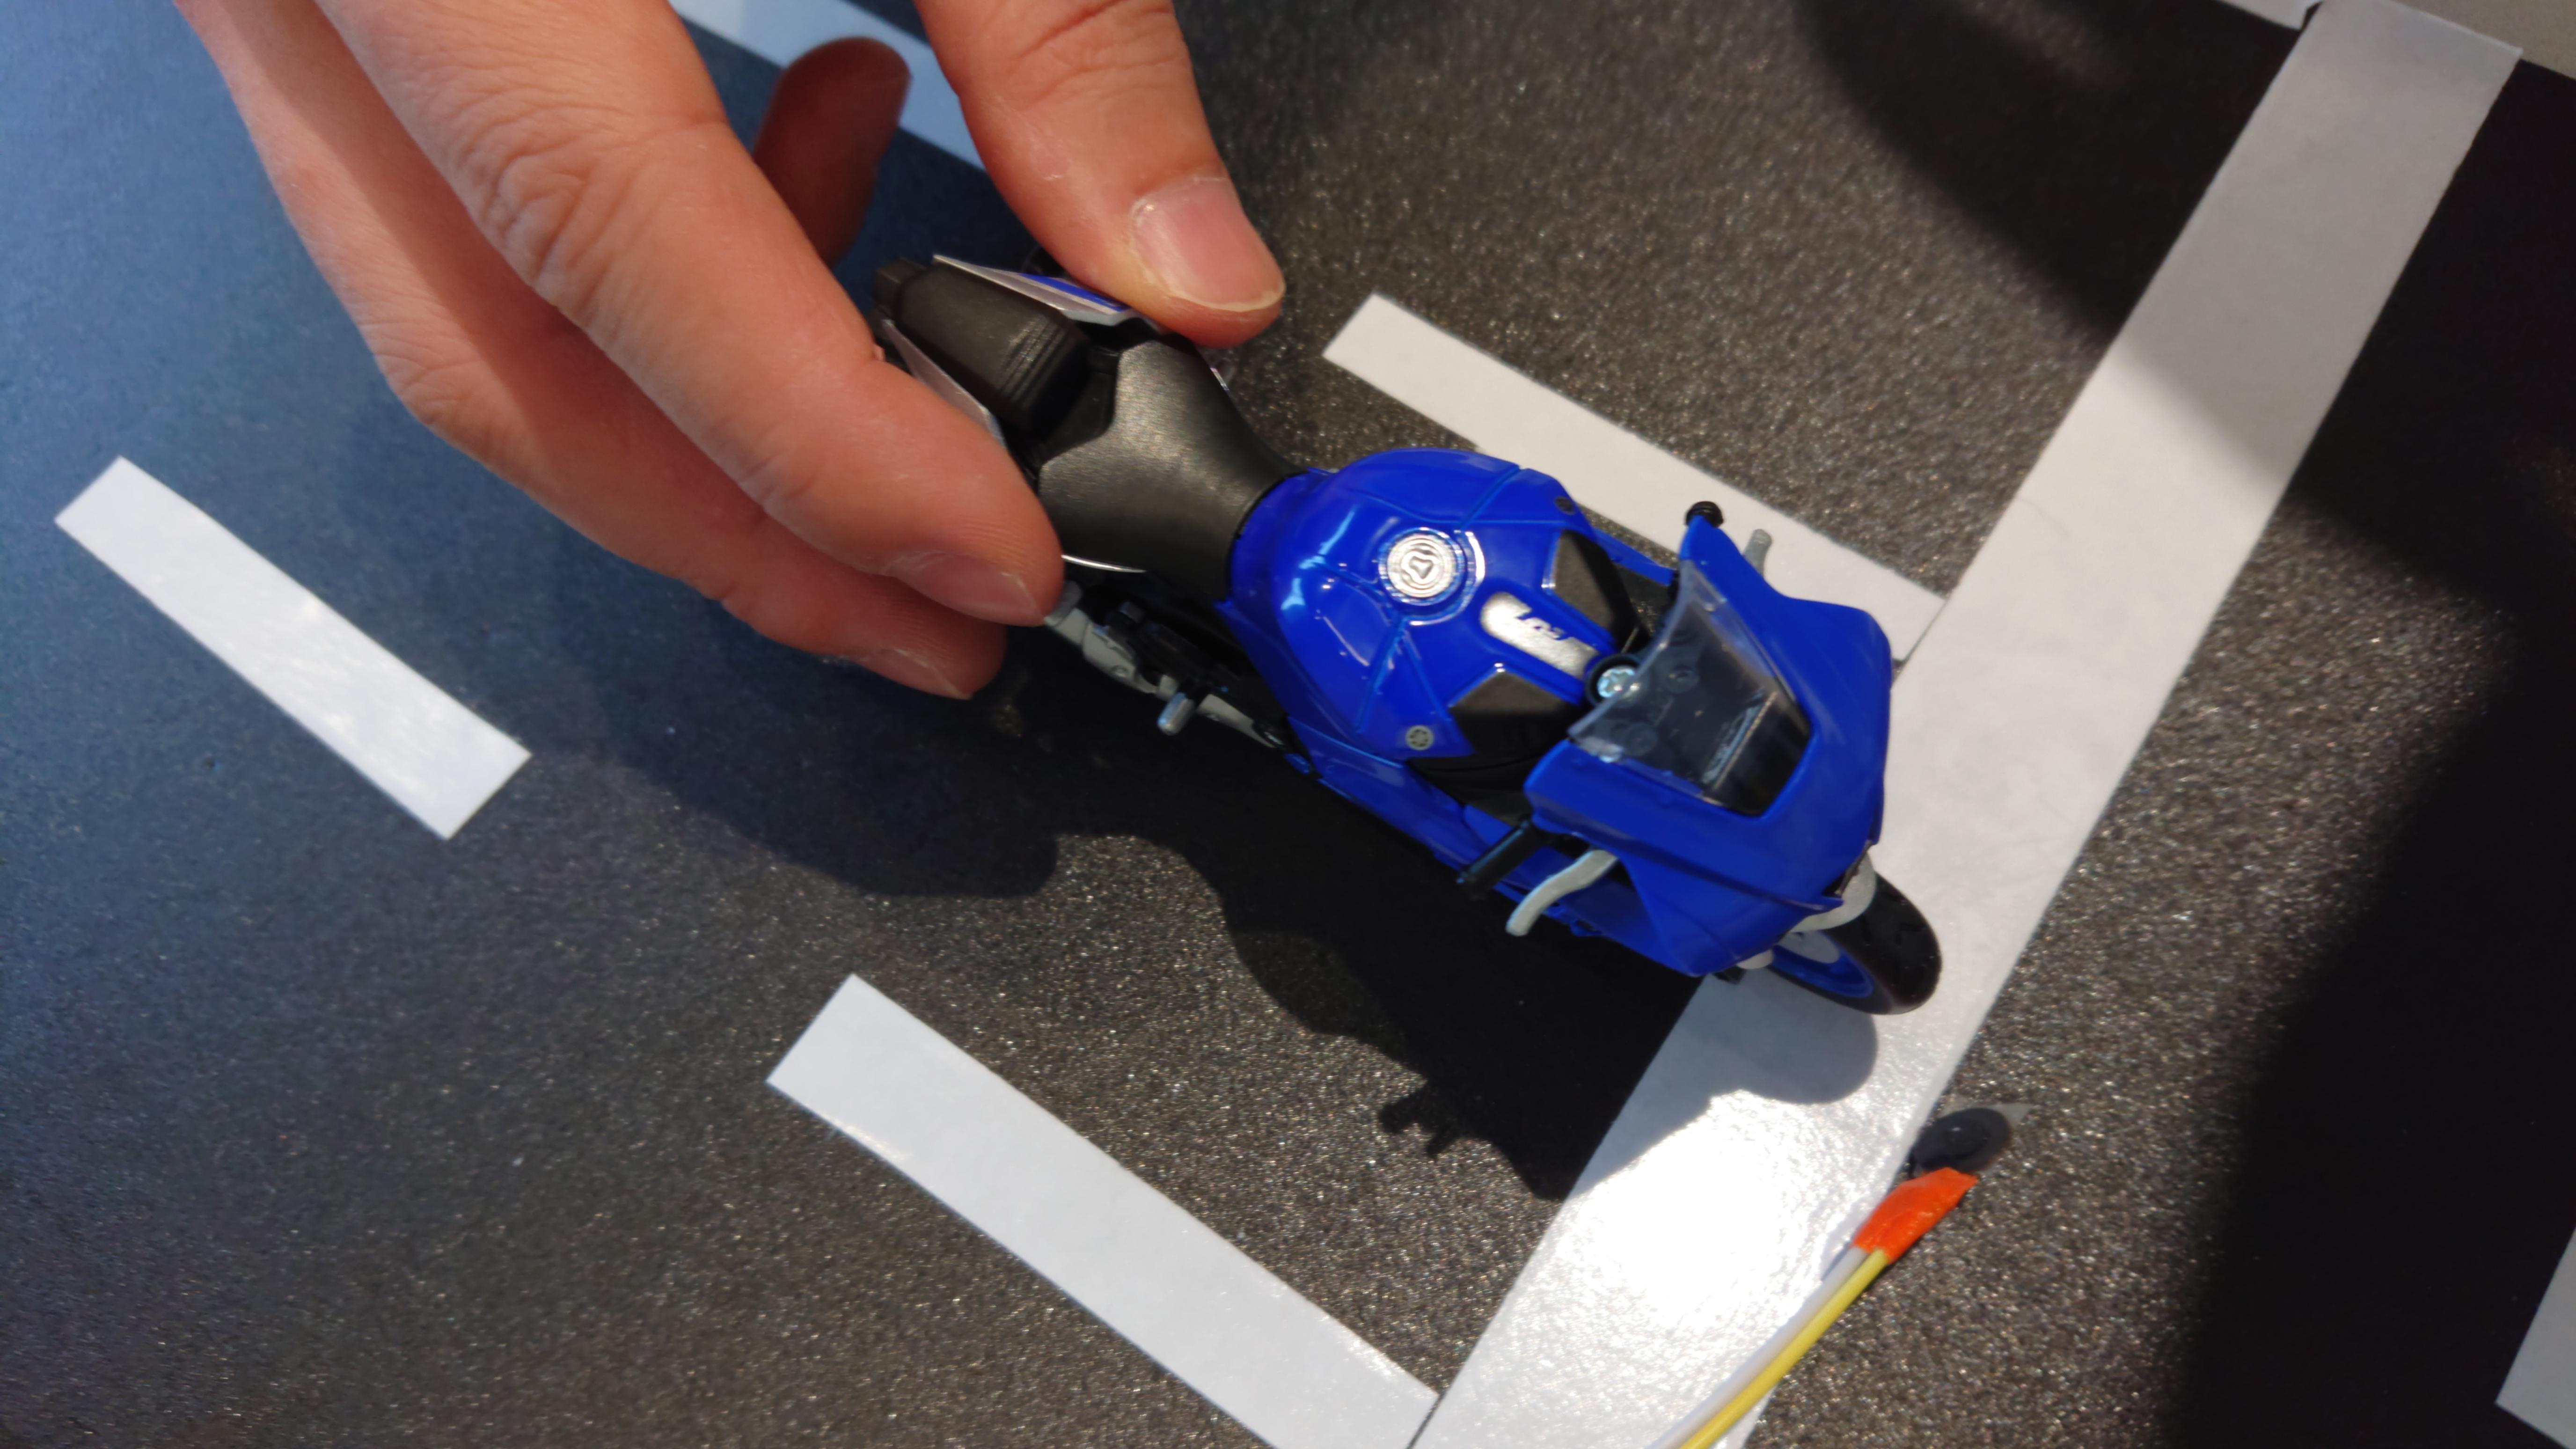Motorcycle: (828, 161, 1987, 1037)
